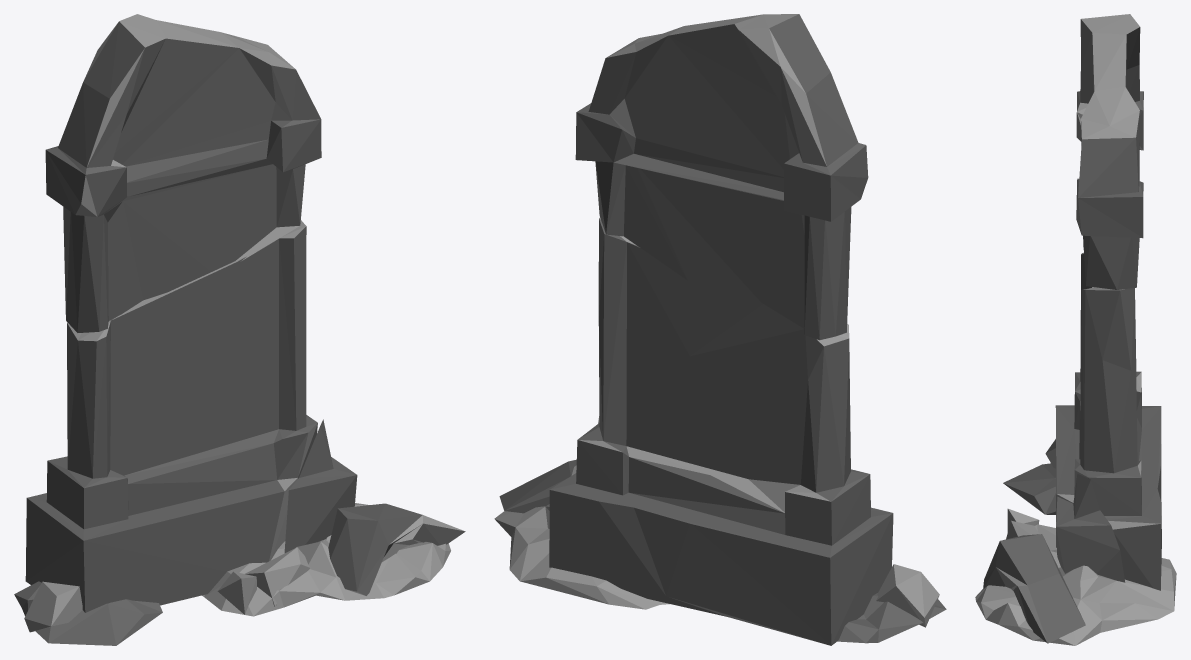
Rendered from MDungeon_Tombstone_02.FBX.
3 views of the same model, side by side, from view 1: azimuth 30°, elevation 25°; view 2: azimuth 150°, elevation 25°; view 3: azimuth 270°, elevation 25° (orthographic). The views are drawn at different scales.
Visible parts, largest first — view 1: MDungeon_Tombstone_02_LOD0; view 2: MDungeon_Tombstone_02_LOD0; view 3: MDungeon_Tombstone_02_LOD0.
Boxes of the visible parts, x1,y1,x2,y2 form: MDungeon_Tombstone_02_LOD0: (14, 14, 465, 645); MDungeon_Tombstone_02_LOD0: (494, 14, 946, 645); MDungeon_Tombstone_02_LOD0: (975, 14, 1176, 645).
Size of what is drawn, in the model's own units: 1.57 by 2 by 0.7194.
